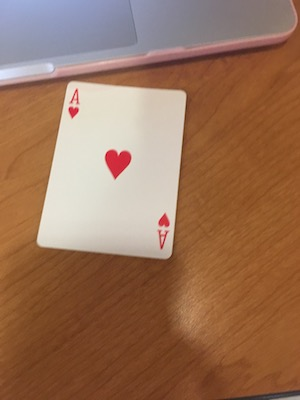AceOfHearts: (32, 76, 190, 261)
